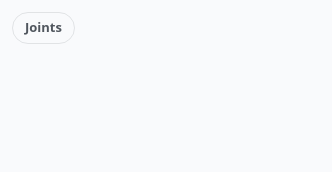
Test: Toggle › exposes pressed state
Click the button "Joints".
click(44, 28)  # box [12,12,75,44]
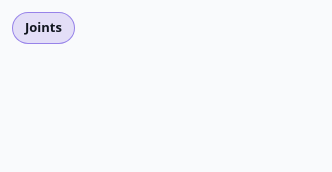
Expected: the button "Joints" is pressed, [12,12,75,44]
